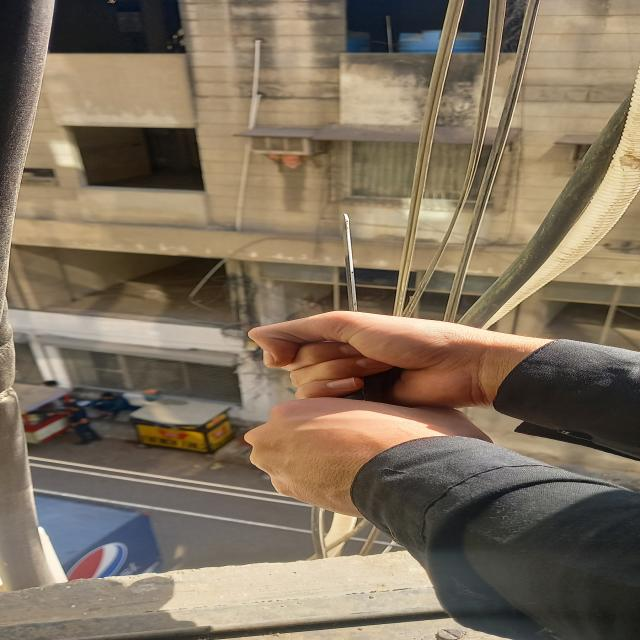Knife: (312, 205, 371, 395)
